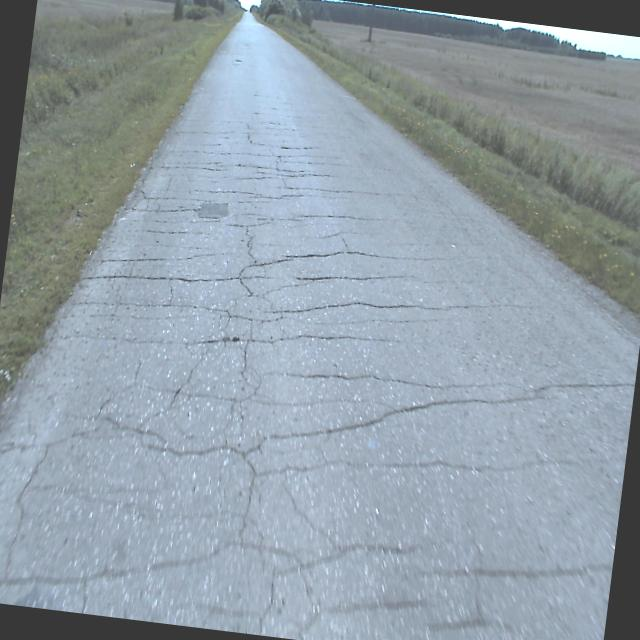road: (0, 11, 640, 640)
